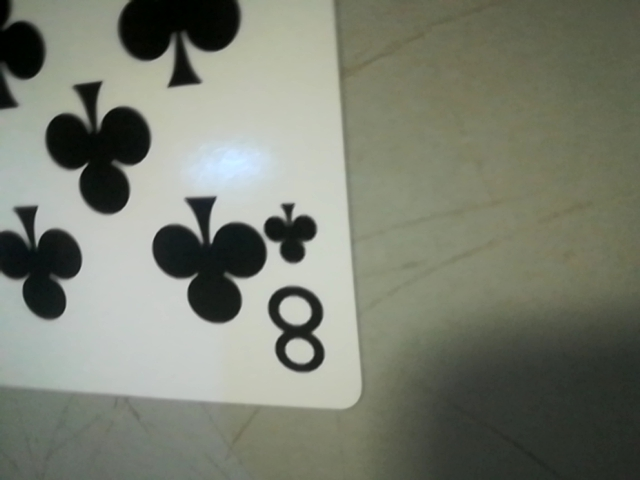mh 8: (252, 191, 342, 389)
